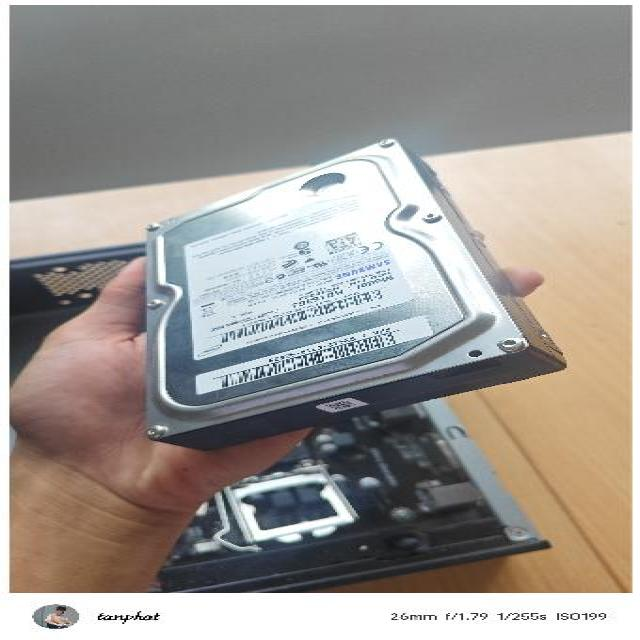DISK: (134, 134, 572, 452)
